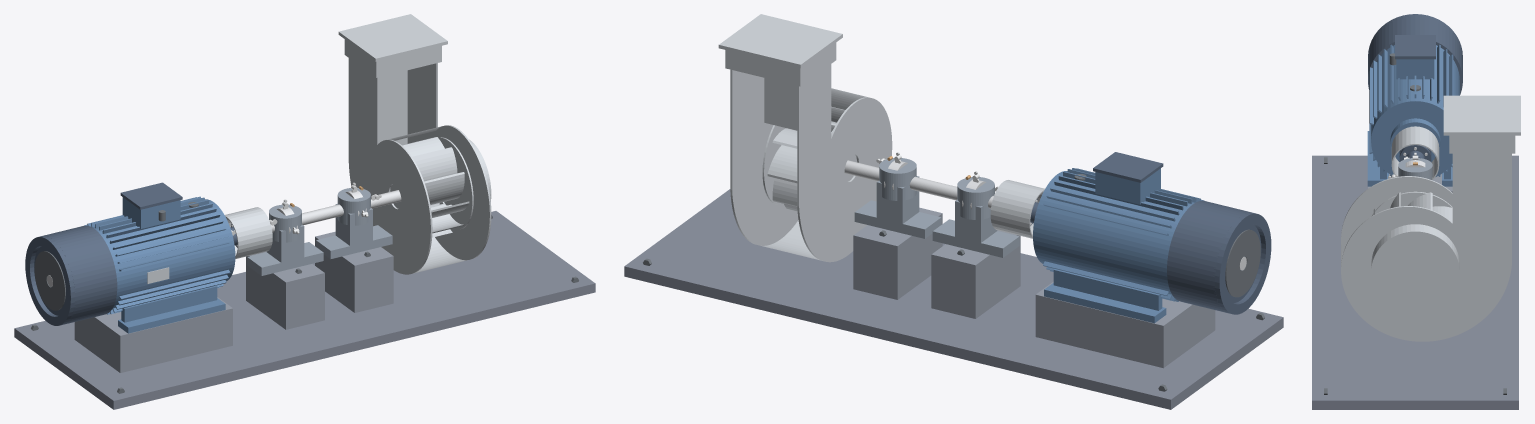
File: fan.glb
3 views of the same model, side by side, from view 1: azimuth 30°, elevation 25°; view 2: azimuth 150°, elevation 25°; view 3: azimuth 270°, elevation 25° (orthographic). The views are drawn at different scales.
Visible parts, largest first — view 1: PART_001, CASING_FANHOUSING_075, CASING_MOTORBODY_006, PART_022, CASING_FANHOUSING_076, CASING_FINS_009, CASING_COWL_010, PART_058, PART_069, CASING_FANHOUSING_081, CASING_FANHOUSING_074, CASING_COWL_011 (+18 smaller); view 2: PART_001, CASING_FANHOUSING_075, CASING_MOTORBODY_006, PART_022, CASING_FANHOUSING_076, CASING_COWL_010, PART_058, PART_069, CASING_FINS_009, CASING_FANHOUSING_081, CASING_FANHOUSING_074, CASING_COWL_011 (+18 smaller); view 3: PART_001, CASING_FANHOUSING_076, CASING_INLET_095, CASING_FANHOUSING_081, CASING_ENDBELL_007, CASING_FINS_009, CASING_FANHOUSING_075, CASING_COWL_010, CASING_MOTORBODY_006, CASING_FANHOUSING_080, CASING_GUARD_050, PART_014 (+9 smaller).
Part boxes in pixels (box(x1,y1,x2,y2)): PART_001: box(14, 211, 595, 409); CASING_FANHOUSING_075: box(348, 58, 432, 274); CASING_MOTORBODY_006: box(92, 200, 234, 309); PART_022: box(74, 297, 232, 372); CASING_FANHOUSING_076: box(407, 63, 491, 260); CASING_FINS_009: box(84, 196, 230, 314); CASING_COWL_010: box(34, 225, 117, 324); PART_058: box(246, 251, 324, 329); PART_069: box(315, 231, 393, 312); CASING_FANHOUSING_081: box(338, 14, 447, 61); CASING_FANHOUSING_074: box(379, 70, 467, 273); CASING_COWL_011: box(25, 236, 76, 325); PART_001: box(624, 189, 1283, 409); CASING_FANHOUSING_075: box(797, 64, 892, 262); CASING_MOTORBODY_006: box(1034, 171, 1194, 295); PART_022: box(1035, 281, 1215, 368); CASING_FANHOUSING_076: box(730, 69, 798, 245); CASING_COWL_010: box(1167, 200, 1261, 312); PART_058: box(931, 230, 1020, 318); PART_069: box(853, 207, 942, 299); CASING_FINS_009: box(1043, 168, 1204, 301); CASING_FANHOUSING_081: box(718, 14, 842, 68); CASING_FANHOUSING_074: box(761, 78, 867, 260); CASING_COWL_011: box(1213, 212, 1271, 314); PART_001: box(1312, 155, 1518, 409); CASING_FANHOUSING_076: box(1341, 153, 1511, 341); CASING_INLET_095: box(1371, 224, 1459, 311); CASING_FANHOUSING_081: box(1443, 95, 1520, 135); CASING_ENDBELL_007: box(1371, 97, 1452, 176); CASING_FINS_009: box(1369, 44, 1453, 176); CASING_FANHOUSING_075: box(1341, 176, 1452, 254); CASING_COWL_010: box(1368, 16, 1462, 94); CASING_MOTORBODY_006: box(1371, 45, 1459, 138); CASING_FANHOUSING_080: box(1449, 135, 1515, 153); CASING_GUARD_050: box(1391, 126, 1439, 179); PART_014: box(1395, 35, 1435, 59).
Size of the model in its own units: 4.34 by 1.88 by 1.51.
